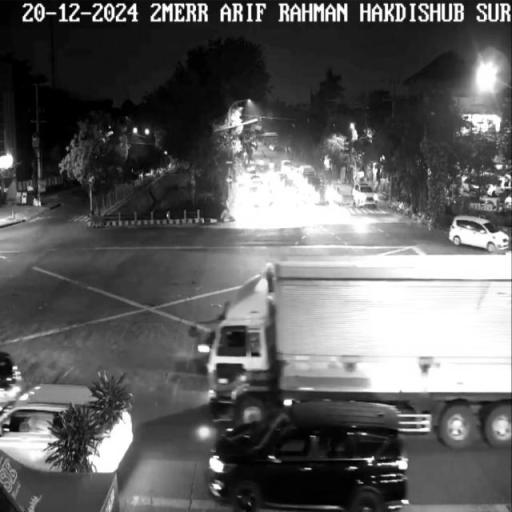car: (209, 400, 408, 510), (0, 385, 134, 474), (447, 216, 512, 252)
truck: (208, 258, 512, 444)
